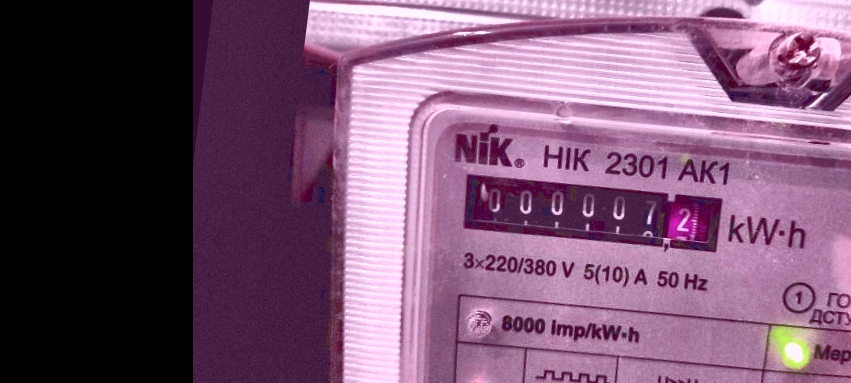0: (484, 184, 504, 213), (578, 190, 598, 219), (547, 187, 566, 217), (516, 186, 535, 215), (610, 193, 628, 222)
2: (674, 205, 693, 233)
7: (640, 195, 659, 227)
screen: (448, 159, 735, 265)
